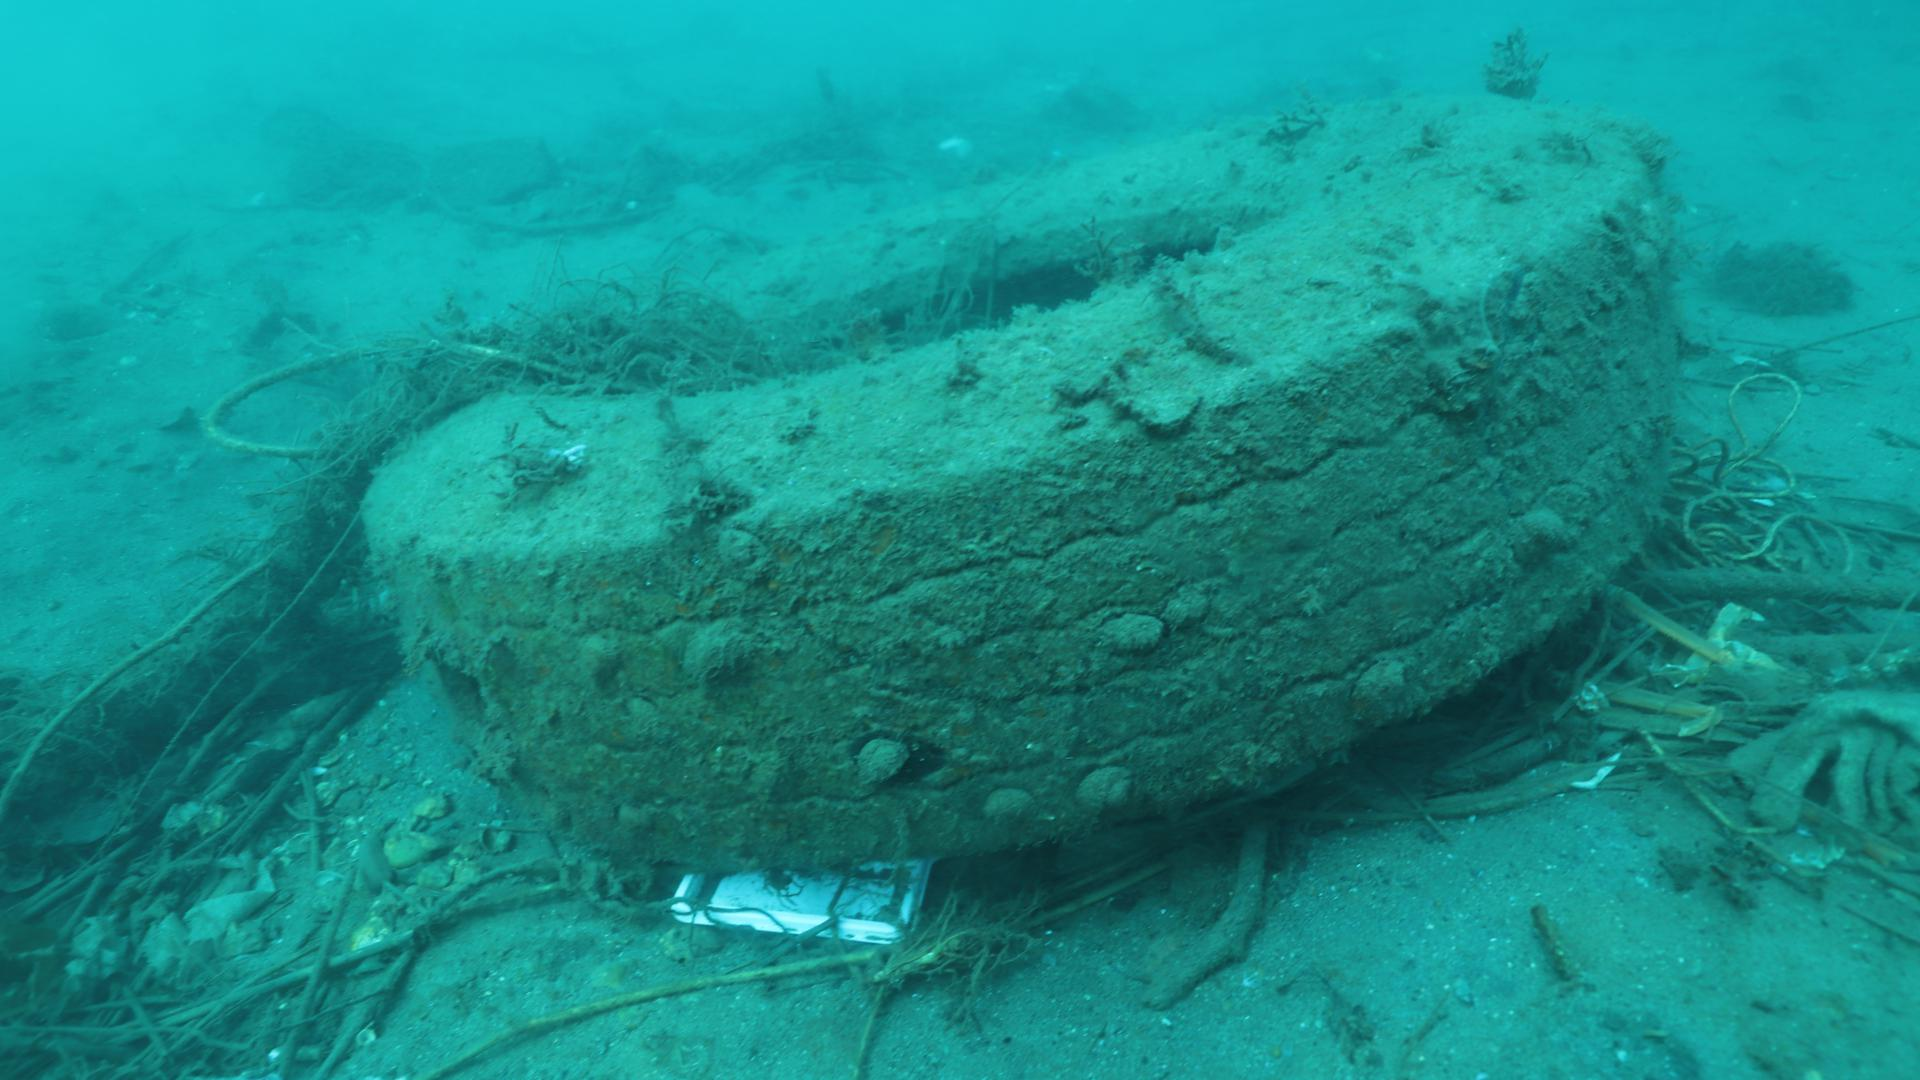tire: (365, 90, 1677, 861)
